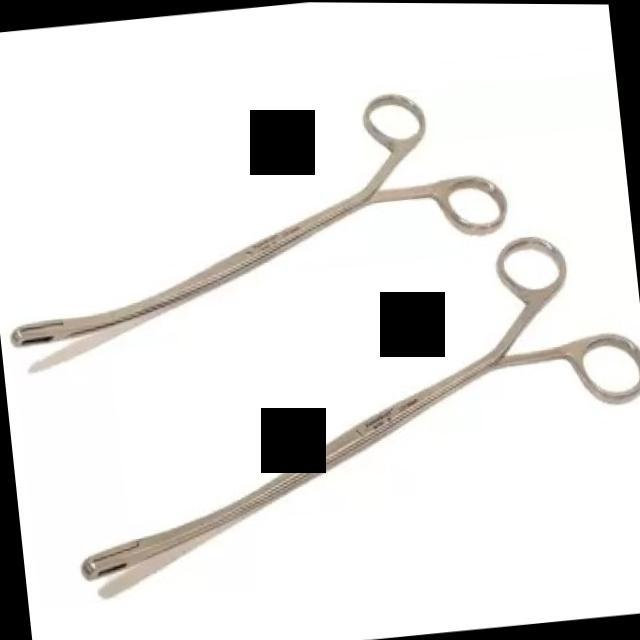Desjardin Forceps: (46, 213, 640, 588), (0, 60, 519, 353)
